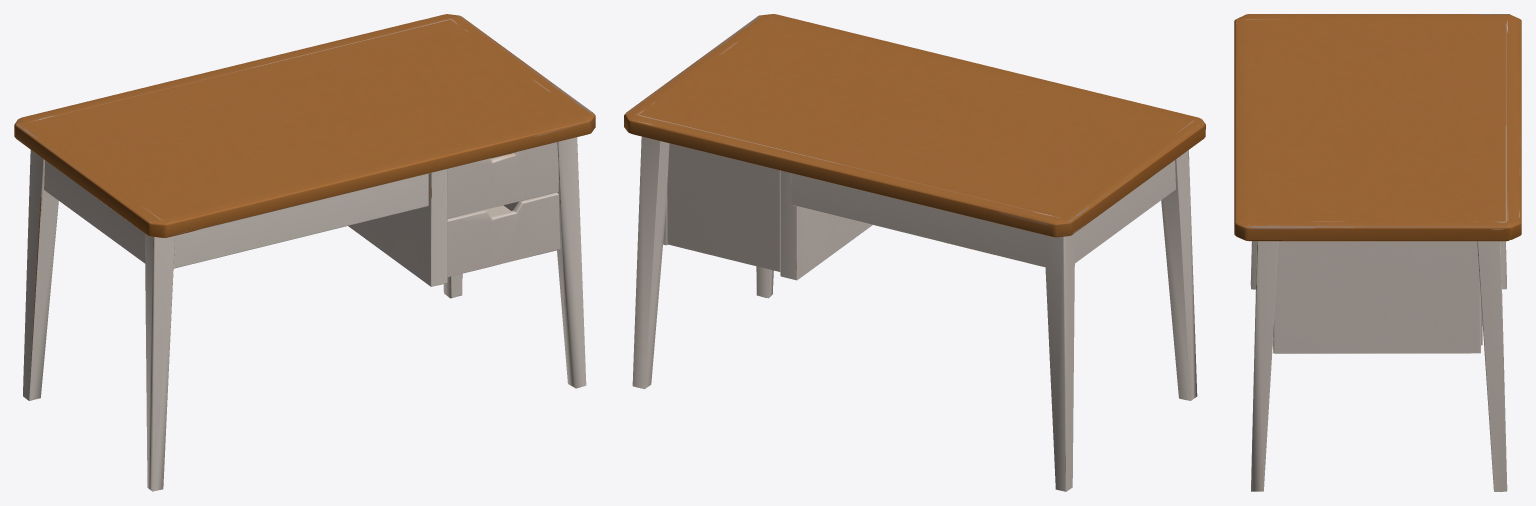
File: desk.glb
The picture shows the model from 3 angles, left to right: view 1: azimuth 30°, elevation 25°; view 2: azimuth 150°, elevation 25°; view 3: azimuth 270°, elevation 25°; orthographic projection.
Size of the model in its own units: 0.9575 by 0.5581 by 0.5435.
Materials: 1 (1 with a texture image).
